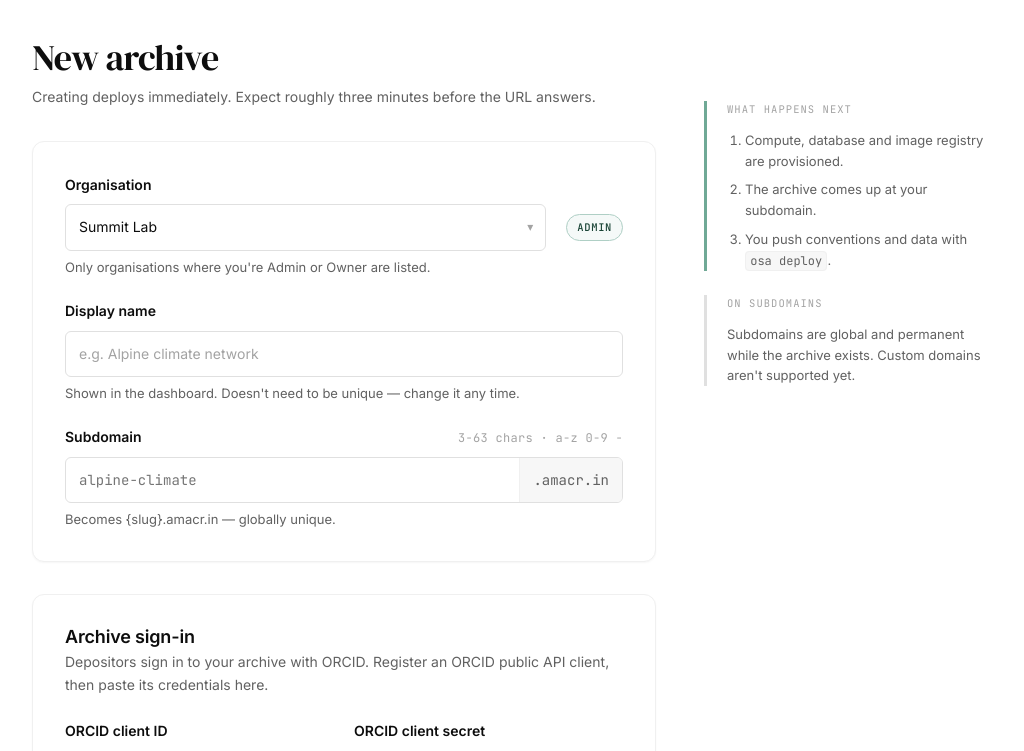
CreateArchiveForm › blocks submit and shows a field error for an invalid subdomain format
Type "Alpine climate network" into the field labelled "Display name" at (344, 354), box [65,330,623,377]
(page scrolled)
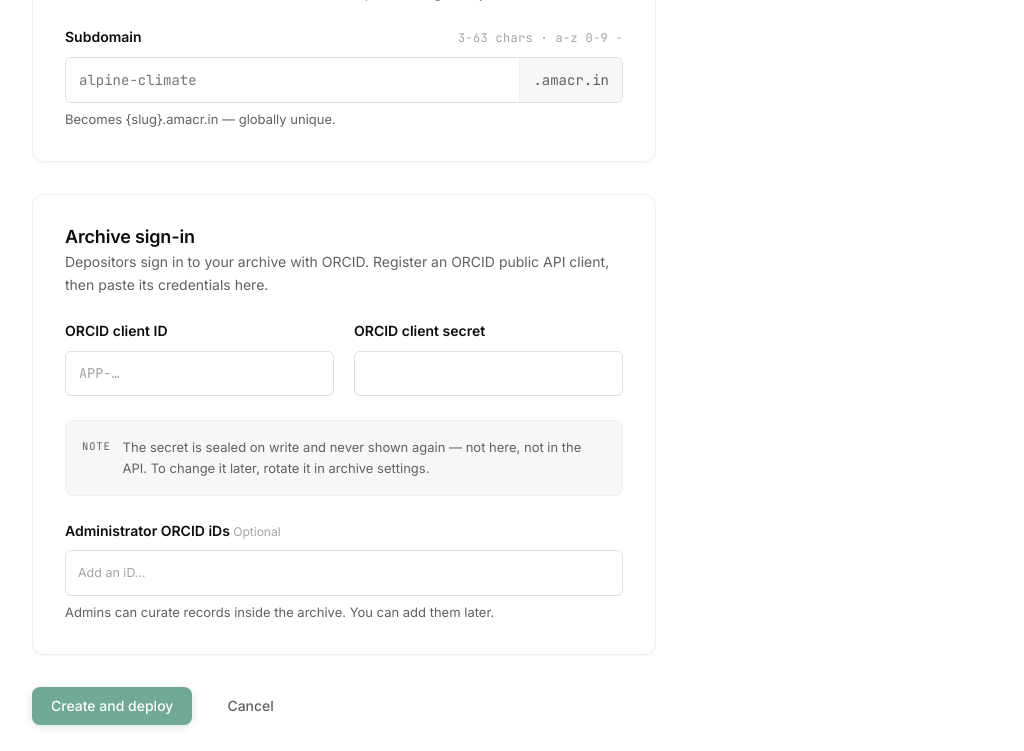
Type "APP-K91F2LQ8XZ40" into the field labelled "ORCID client ID" at (200, 373), box [65,351,334,396]
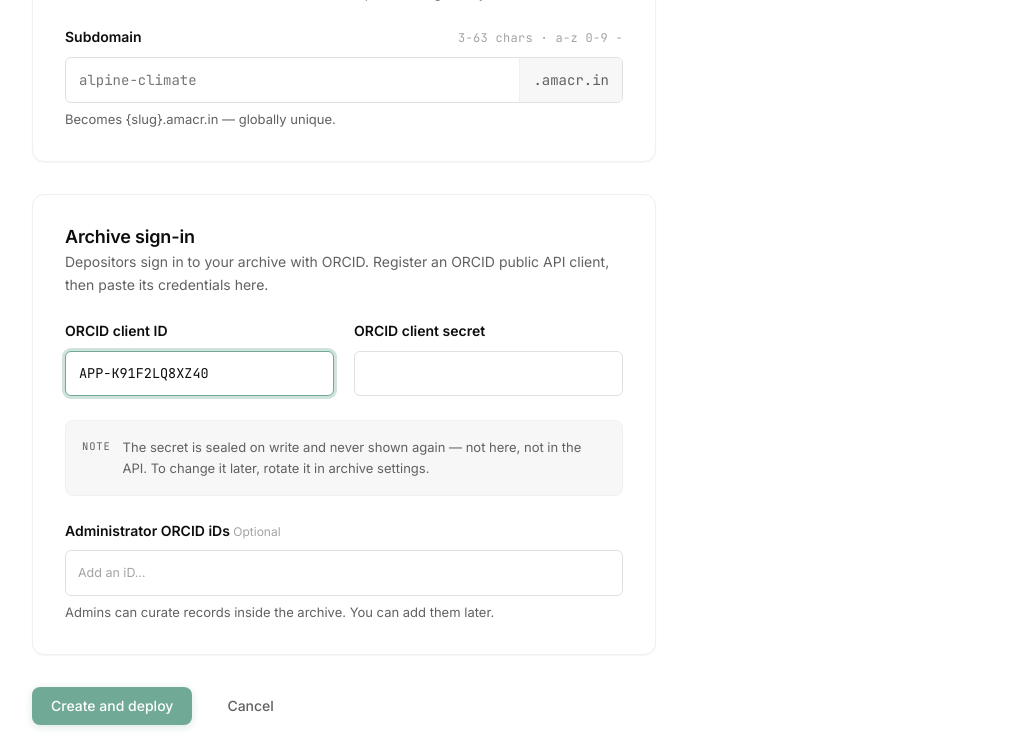
Type "s3cr3t-value" into the password field labelled "ORCID client secret" at (488, 373), box [354,351,623,396]
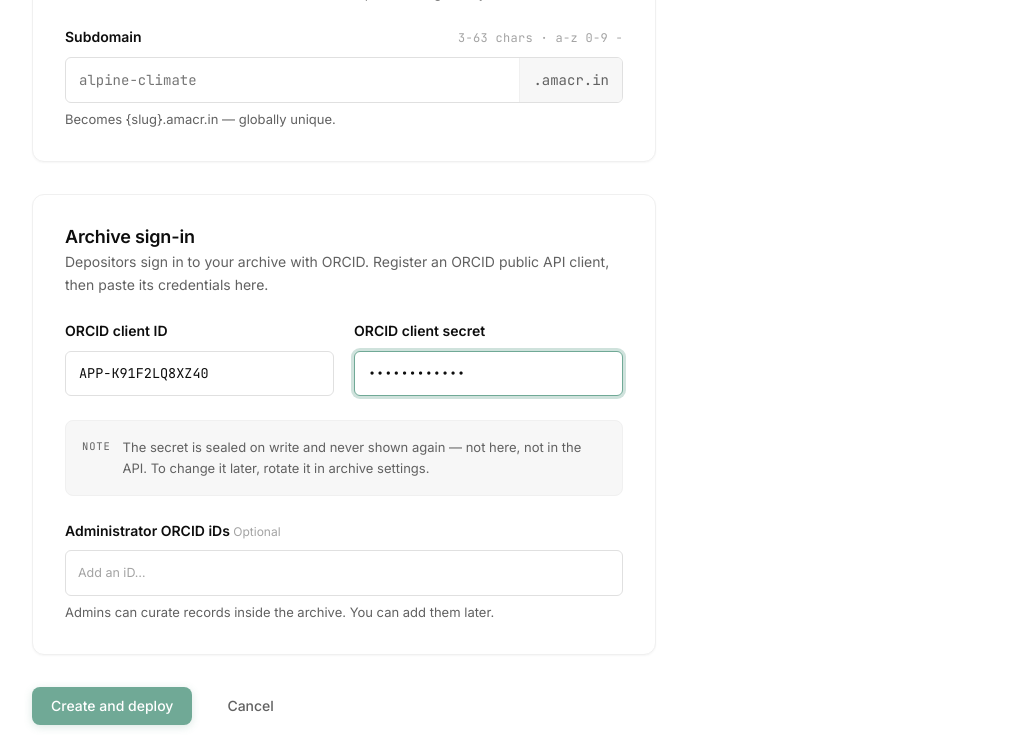
Type "AB" into the field labelled "Subdomain" at (293, 80), box [66,58,519,102]
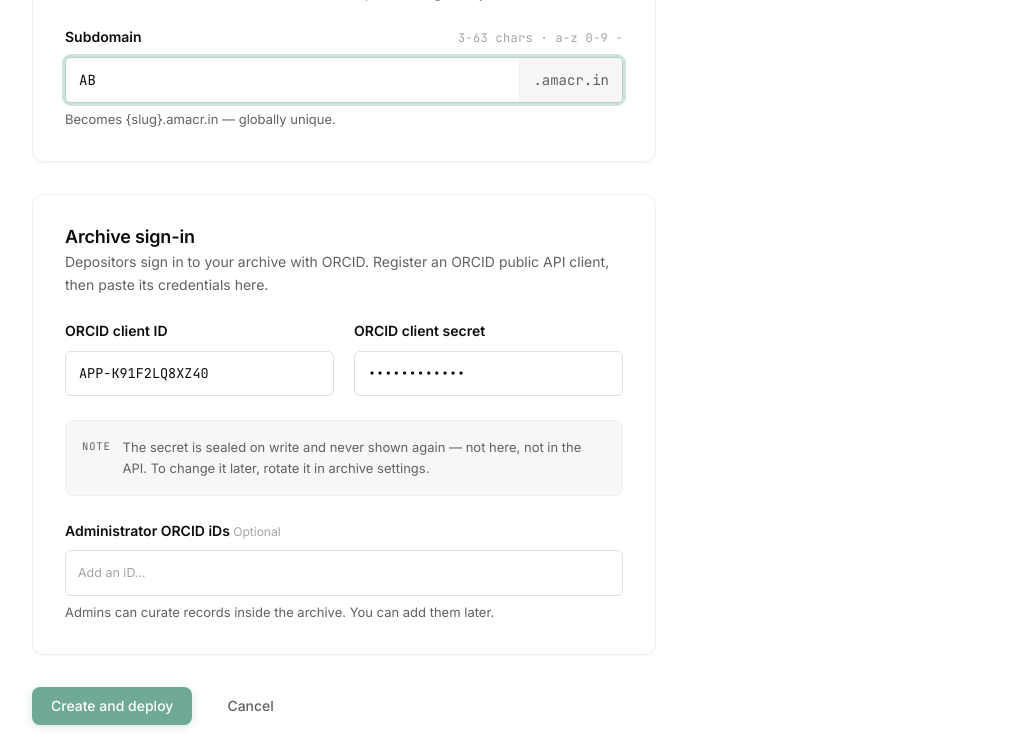
Click the button "Create and deploy" at (112, 706), box [32,687,192,725]
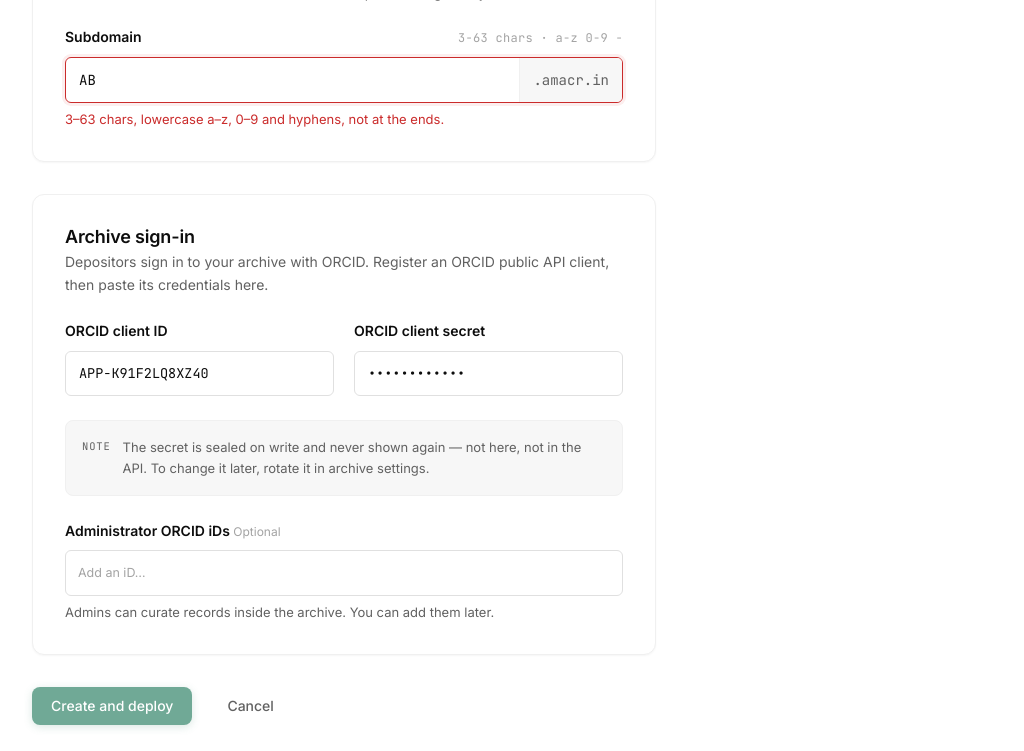
Expected: the message reads "3–63 chars, lowercase a–z, 0–9 and hyphens, not at the ends.", [65,111,444,127]
